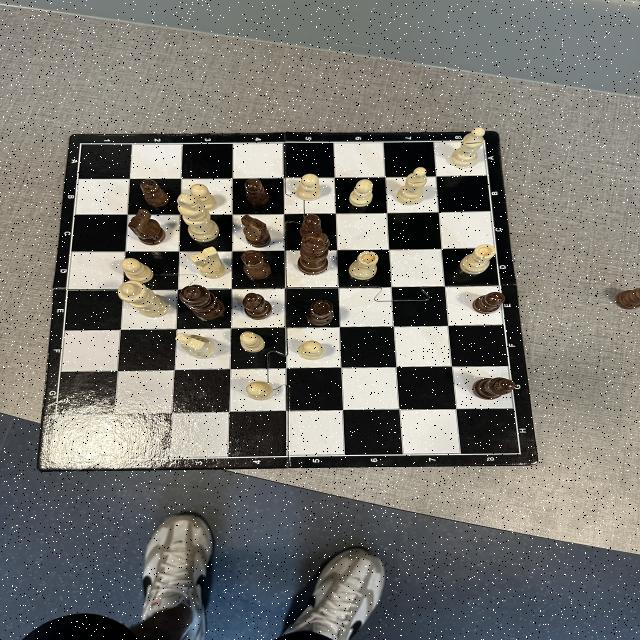Black-Bishop: (472, 376, 516, 400), (242, 293, 272, 320)
Black-King: (297, 232, 330, 276)
Black-Knight: (129, 208, 166, 246), (240, 214, 272, 248)
Black-Pawn: (140, 179, 170, 207), (243, 178, 270, 206), (473, 292, 505, 314), (300, 214, 323, 240)
Black-Queen: (180, 284, 226, 320)
Black-Rook: (242, 250, 272, 280), (306, 300, 335, 326), (616, 288, 640, 309)
White-Bishop: (450, 128, 485, 170), (398, 167, 428, 205)
White-King: (177, 195, 219, 242)
White-Knight: (192, 247, 226, 279), (177, 334, 214, 359)
White-Pawn: (190, 184, 218, 212), (122, 258, 154, 282), (348, 179, 372, 207), (298, 174, 320, 200), (240, 331, 266, 353), (298, 340, 324, 360), (246, 380, 272, 400)
White-Queen: (119, 280, 170, 318)
White-Rook: (461, 243, 496, 276), (349, 250, 378, 280)
